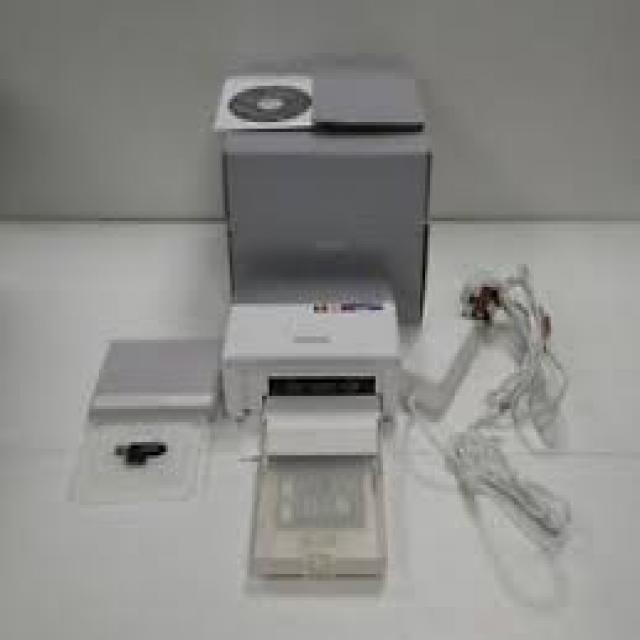printer: (218, 289, 410, 596)
